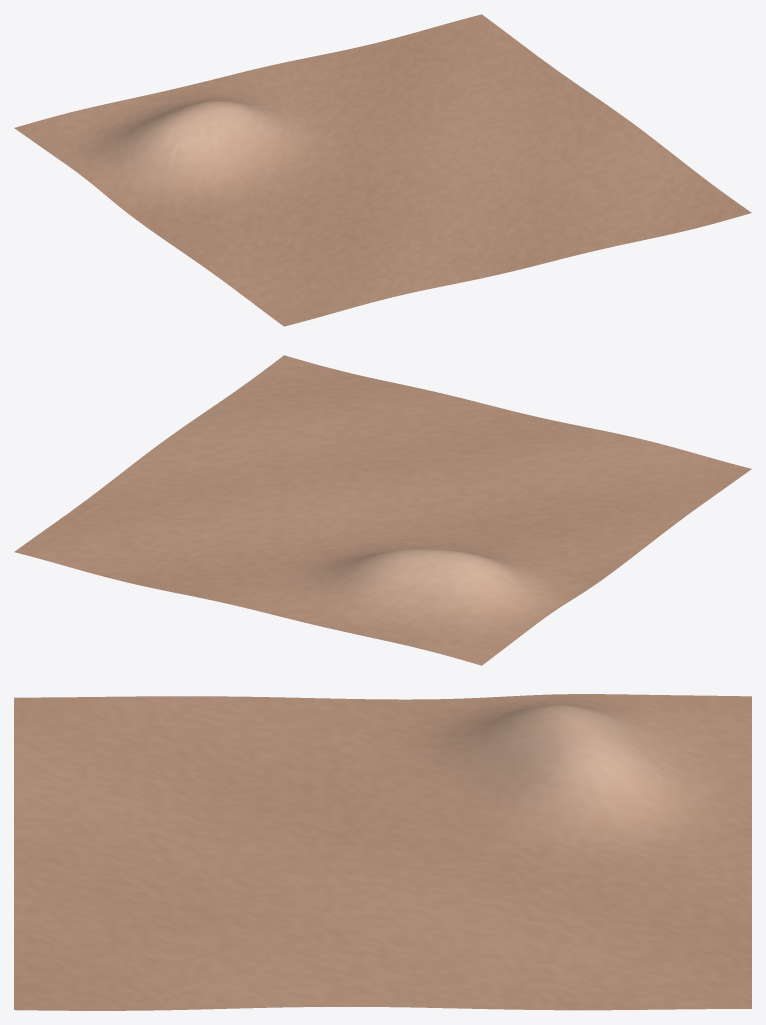
File: sojourner_ares_vallis.glb
3 renders of one model, top to bottom at view 1: azimuth 30°, elevation 25°; view 2: azimuth 150°, elevation 25°; view 3: azimuth 270°, elevation 25°, orthographic. The views are drawn at different scales.
Parts seen in each view (by area): view 1: TYPE_TILE_ID_0___MD_1_Sojourner_Ares_Vallis_Flood_Boulders; view 2: TYPE_TILE_ID_0___MD_1_Sojourner_Ares_Vallis_Flood_Boulders; view 3: TYPE_TILE_ID_0___MD_1_Sojourner_Ares_Vallis_Flood_Boulders.
Part boxes in pixels (x1=…): TYPE_TILE_ID_0___MD_1_Sojourner_Ares_Vallis_Flood_Boulders: x1=14, y1=14, x2=751, y2=326; TYPE_TILE_ID_0___MD_1_Sojourner_Ares_Vallis_Flood_Boulders: x1=14, y1=355, x2=751, y2=665; TYPE_TILE_ID_0___MD_1_Sojourner_Ares_Vallis_Flood_Boulders: x1=14, y1=694, x2=751, y2=1010.
Bounding box in the file's own units: 120 × 9.49 × 120.
